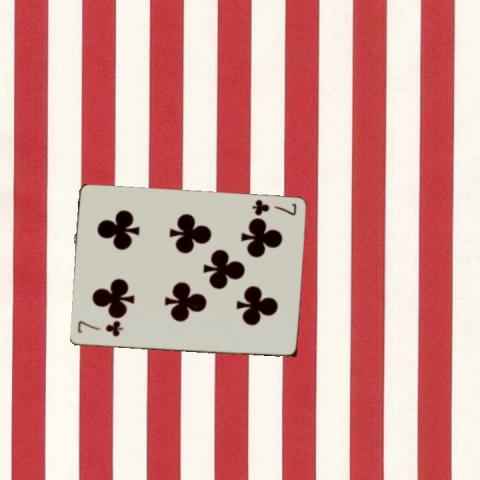7c: (249, 197, 298, 217), (74, 320, 124, 338)
